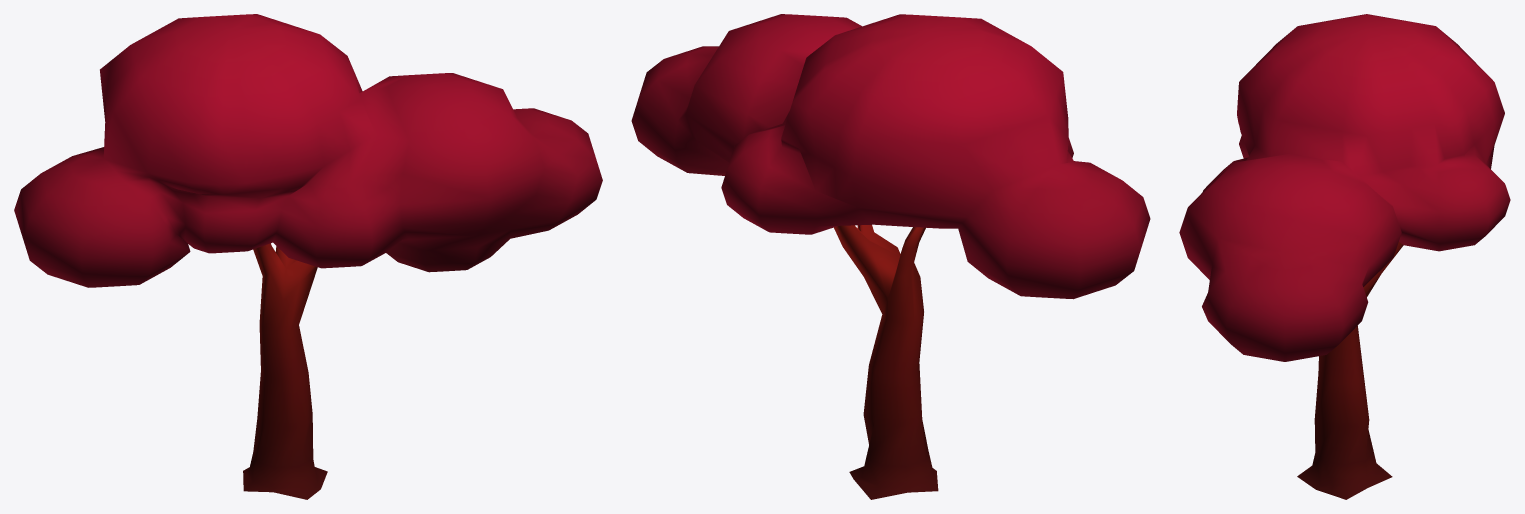
Rendered from ArvoreNuvemVermelha.fbx.
3 renders of one model, left to right at view 1: azimuth 30°, elevation 25°; view 2: azimuth 150°, elevation 25°; view 3: azimuth 270°, elevation 25°, orthographic. The views are drawn at different scales.
Visible parts, largest first — view 1: ArvoreNuvem.004; view 2: ArvoreNuvem.004; view 3: ArvoreNuvem.004.
Part boxes in pixels (x1=…): ArvoreNuvem.004: x1=14, y1=14, x2=602, y2=499; ArvoreNuvem.004: x1=631, y1=14, x2=1150, y2=499; ArvoreNuvem.004: x1=1179, y1=14, x2=1510, y2=499.
Size of the model in its own units: 382 by 315 by 220.
